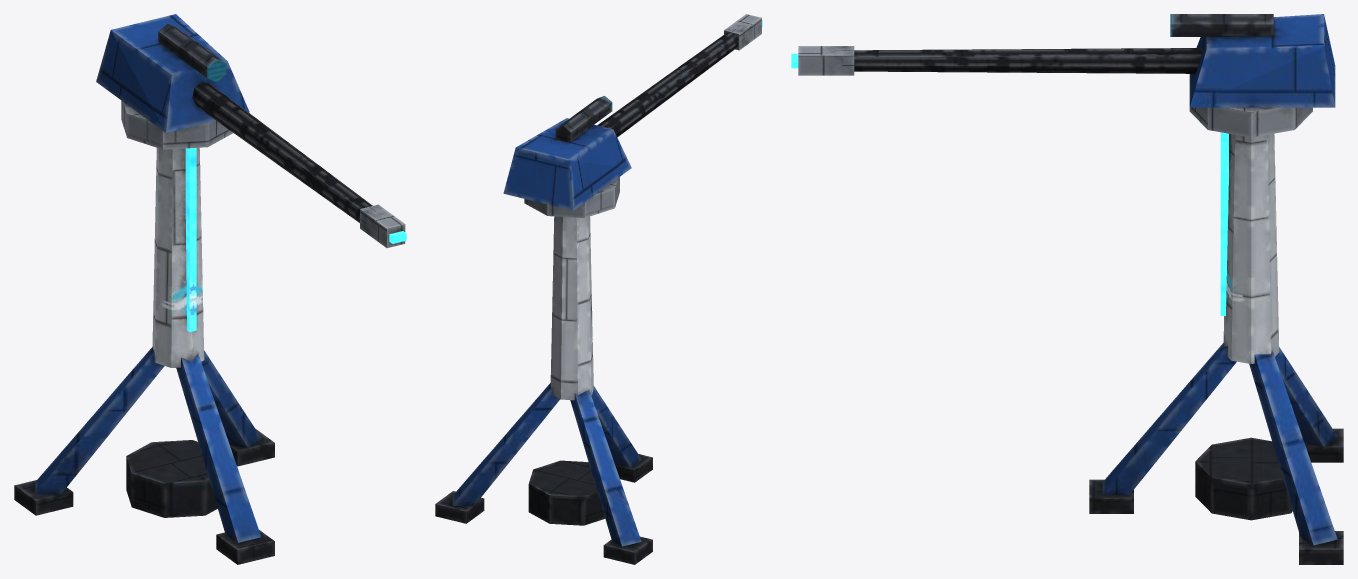
Rendered from u_spire1_w.glb.
3 views of the same model, side by side, from view 1: azimuth 30°, elevation 25°; view 2: azimuth 150°, elevation 25°; view 3: azimuth 270°, elevation 25° (orthographic). The views are drawn at different scales.
Parts seen in each view (by area): view 1: u_spire1_w; view 2: u_spire1_w; view 3: u_spire1_w.
Boxes of the visible parts, x1,y1,x2,y2 form: u_spire1_w: [14, 14, 406, 564]; u_spire1_w: [435, 14, 762, 564]; u_spire1_w: [791, 14, 1343, 564].
Bounding box in the file's own units: 1.03 × 1.93 × 1.97.
1 material, 1 textured.
